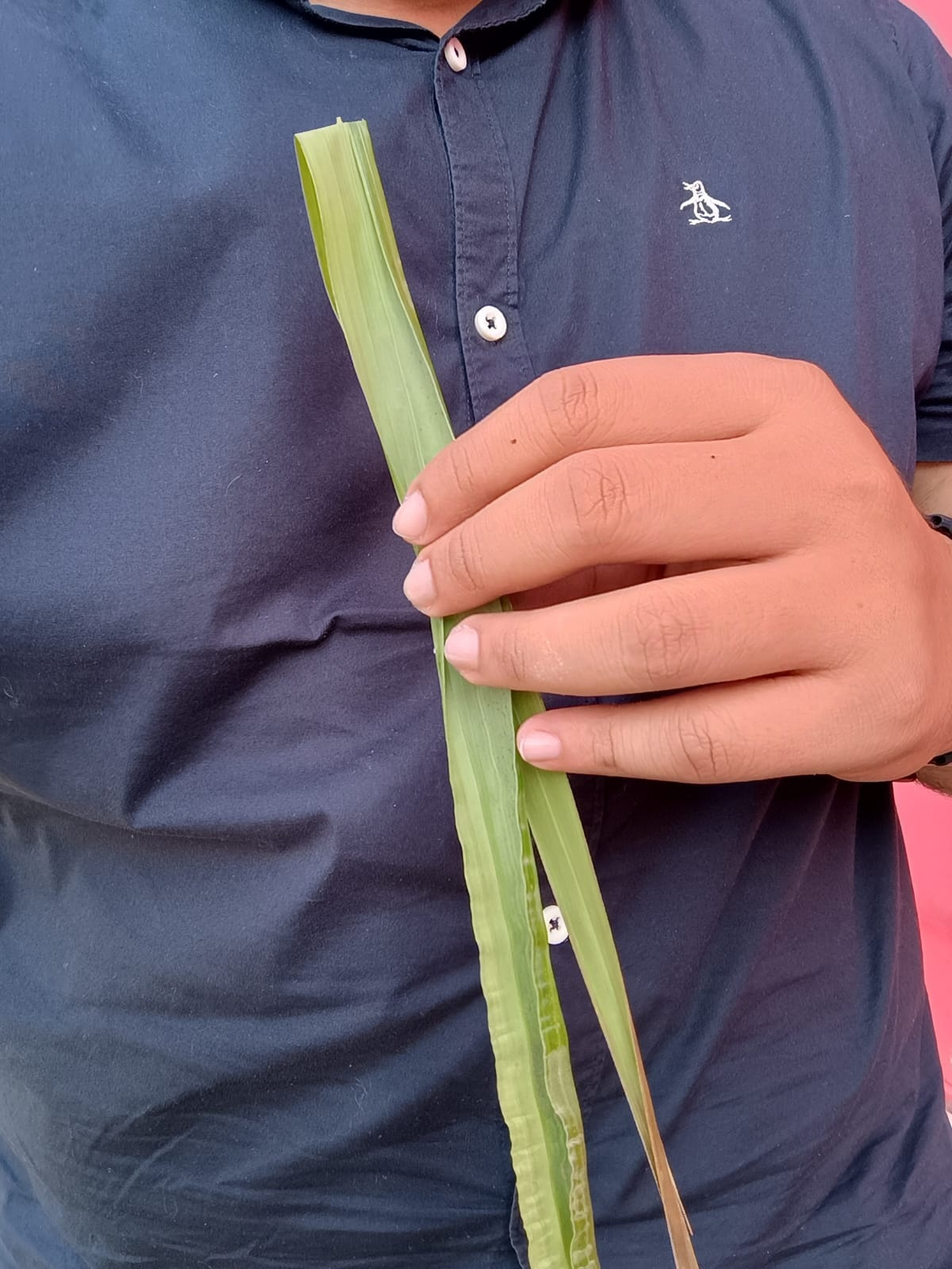Organico: (297, 120, 696, 1269)
